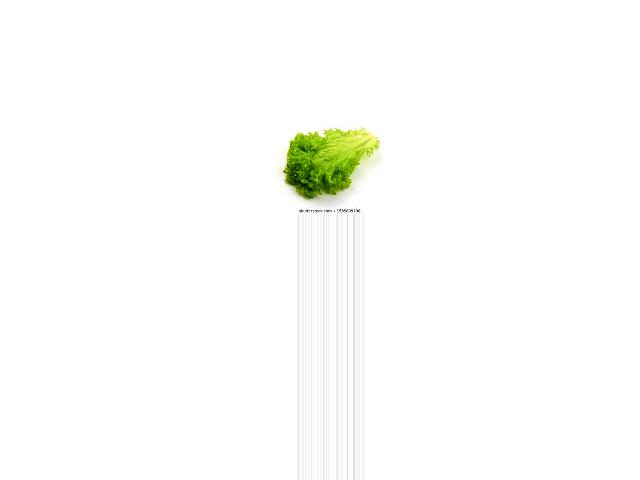lettuce: (279, 125, 378, 198)
